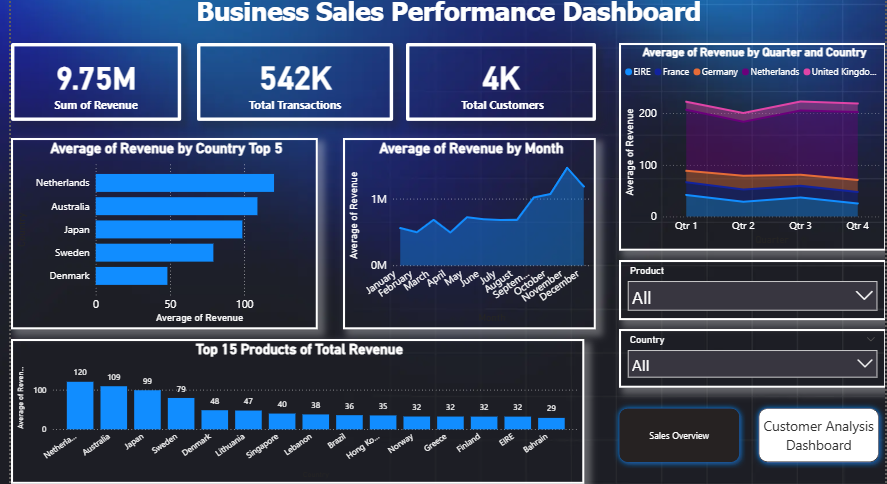

What the dashboard file says about the page in this screenshot:
{"tool":"powerbi","page":{"name":"Sales Overview","canvas":[1280,720],"ordinal":0},"visuals":[{"type":"textbox","box":[0,0,1280.5,74.6],"z":0},{"type":"card","fields":{"Values":["Sum(retail.Revenue)"]},"box":[0,74.6,248.8,114.1],"z":1000},{"type":"card","fields":{"Values":["CountNonNull(retail.InvoiceNo)"]},"box":[272.2,74.6,286.8,114.1],"z":2000},{"type":"card","fields":{"Values":["retail.#Customer"]},"box":[578,74.6,278,114.1],"z":3000},{"type":"barChart","title":"Average of Revenue by Country Top 5","fields":{"Category":["retail.Country"],"Y":["Avg(retail.Revenue)"]},"box":[0,213.7,449.3,279.5],"z":4000},{"type":"areaChart","fields":{"Category":["retail.InvoiceDate.Variation.Date Hierarchy.Year","retail.InvoiceDate.Variation.Date Hierarchy.Quarter","retail.InvoiceDate.Variation.Date Hierarchy.Month","retail.InvoiceDate.Variation.Date Hierarchy.Day"],"Y":["Sum(retail.Revenue)"]},"box":[485.9,213.7,370.2,279.5],"z":5000},{"type":"stackedAreaChart","fields":{"Category":["retail.InvoiceDate.Variation.Date Hierarchy.Quarter"],"Y":["Avg(retail.Revenue)"],"Series":["retail.Country"]},"box":[889.8,74.6,390.7,304.4],"z":6000},{"type":"slicer","fields":{"Values":["retail.Country"]},"box":[889.8,493.2,390.7,86.3],"z":7000},{"type":"slicer","fields":{"Values":["retail.Description"]},"box":[889.8,392.2,390.7,87.8],"z":8000},{"type":"columnChart","title":"Top 15 Products of Total Revenue ","fields":{"Category":["retail.Country"],"Y":["Avg(retail.Revenue)"]},"box":[0,507.8,838.5,212.2],"z":9000},{"type":"pageNavigator","box":[880.5,600,399.5,97],"z":10000}]}

Visuals, with their boxes on the page's 1280x720 design canvas (x1, y1, x2, y2). These are canvas units, not pixel positions in the 887x484 screenshot, which may show the page scaled, cropped or inside an application window:
textbox: bbox=[0, 0, 1280, 75]
card - Sum(retail.Revenue): bbox=[0, 75, 249, 189]
card - CountNonNull(retail.InvoiceNo): bbox=[272, 75, 559, 189]
card - retail.#Customer: bbox=[578, 75, 856, 189]
"Average of Revenue by Country Top 5" barChart: bbox=[0, 214, 449, 493]
areaChart - retail.InvoiceDate.Variation.Date Hierarchy.Year x retail.InvoiceDate.Variation.Date Hierarchy.Quarter: bbox=[486, 214, 856, 493]
stackedAreaChart - retail.InvoiceDate.Variation.Date Hierarchy.Quarter x Avg(retail.Revenue): bbox=[890, 75, 1280, 379]
slicer - retail.Country: bbox=[890, 493, 1280, 580]
slicer - retail.Description: bbox=[890, 392, 1280, 480]
"Top 15 Products of Total Revenue " columnChart: bbox=[0, 508, 838, 720]
pageNavigator: bbox=[880, 600, 1280, 697]
